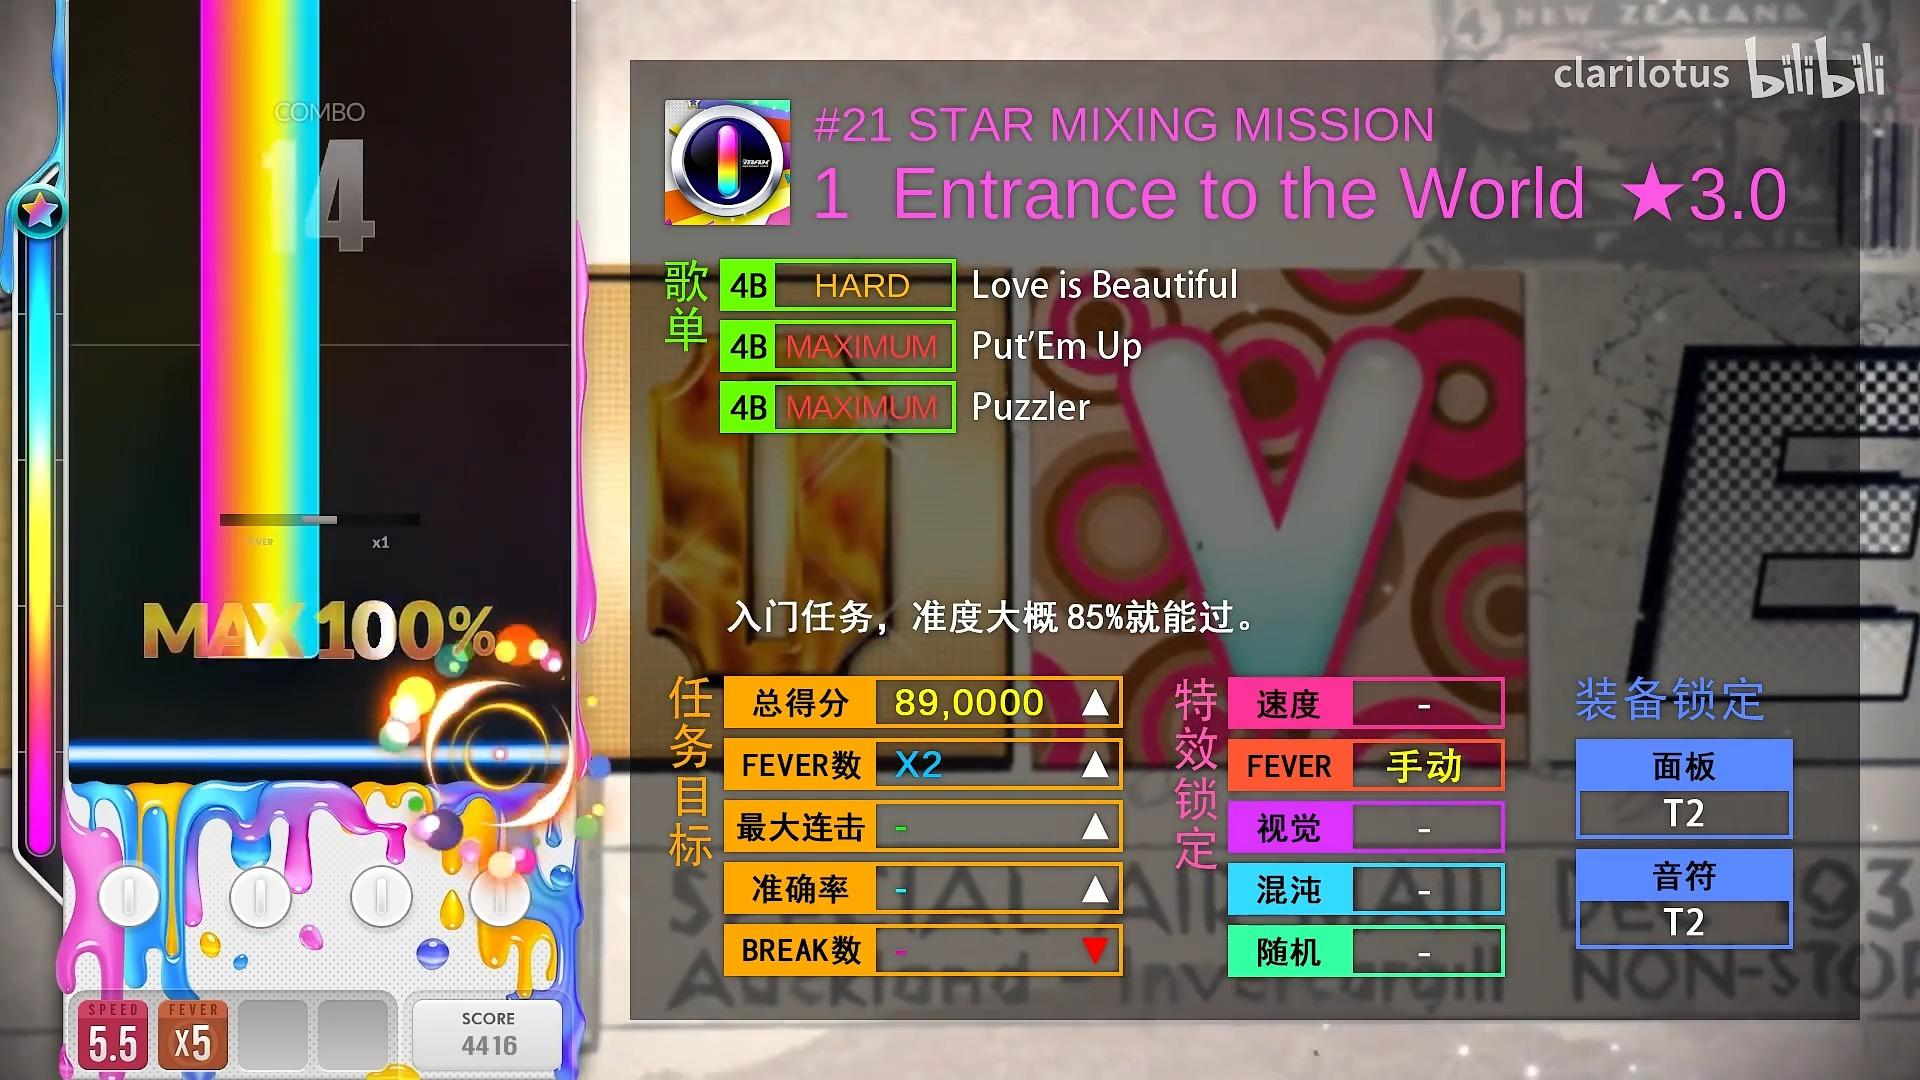hold-start: (200, 632, 322, 658)
